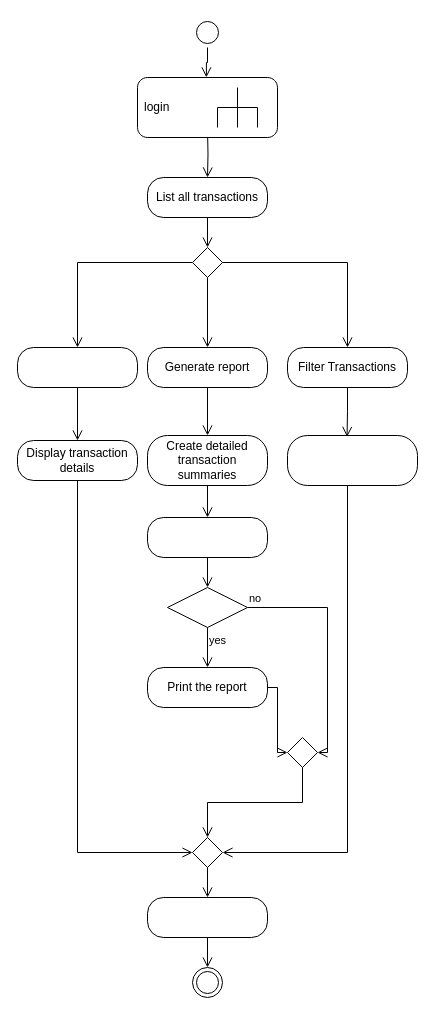
Some shapes in this 435 by 1015 pixel diagram are drawn without their labels. Each missing label, with the box of its shape:
Confirm results: (146, 896, 268, 938)
Select to print the report: (146, 516, 268, 558)
Select transaction: (16, 346, 138, 388)
show only the transactions matching the criteria: (286, 434, 418, 486)
